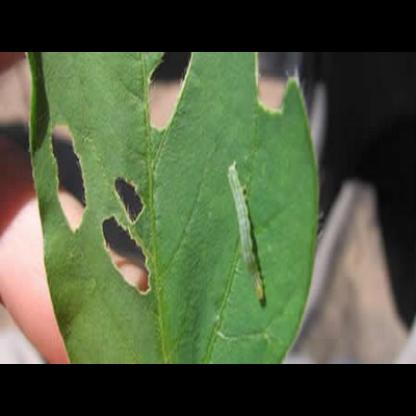agujero: (48, 116, 92, 238), (100, 218, 158, 300), (249, 52, 306, 122), (144, 53, 190, 135), (106, 172, 150, 228)
oruga: (218, 156, 274, 314)
